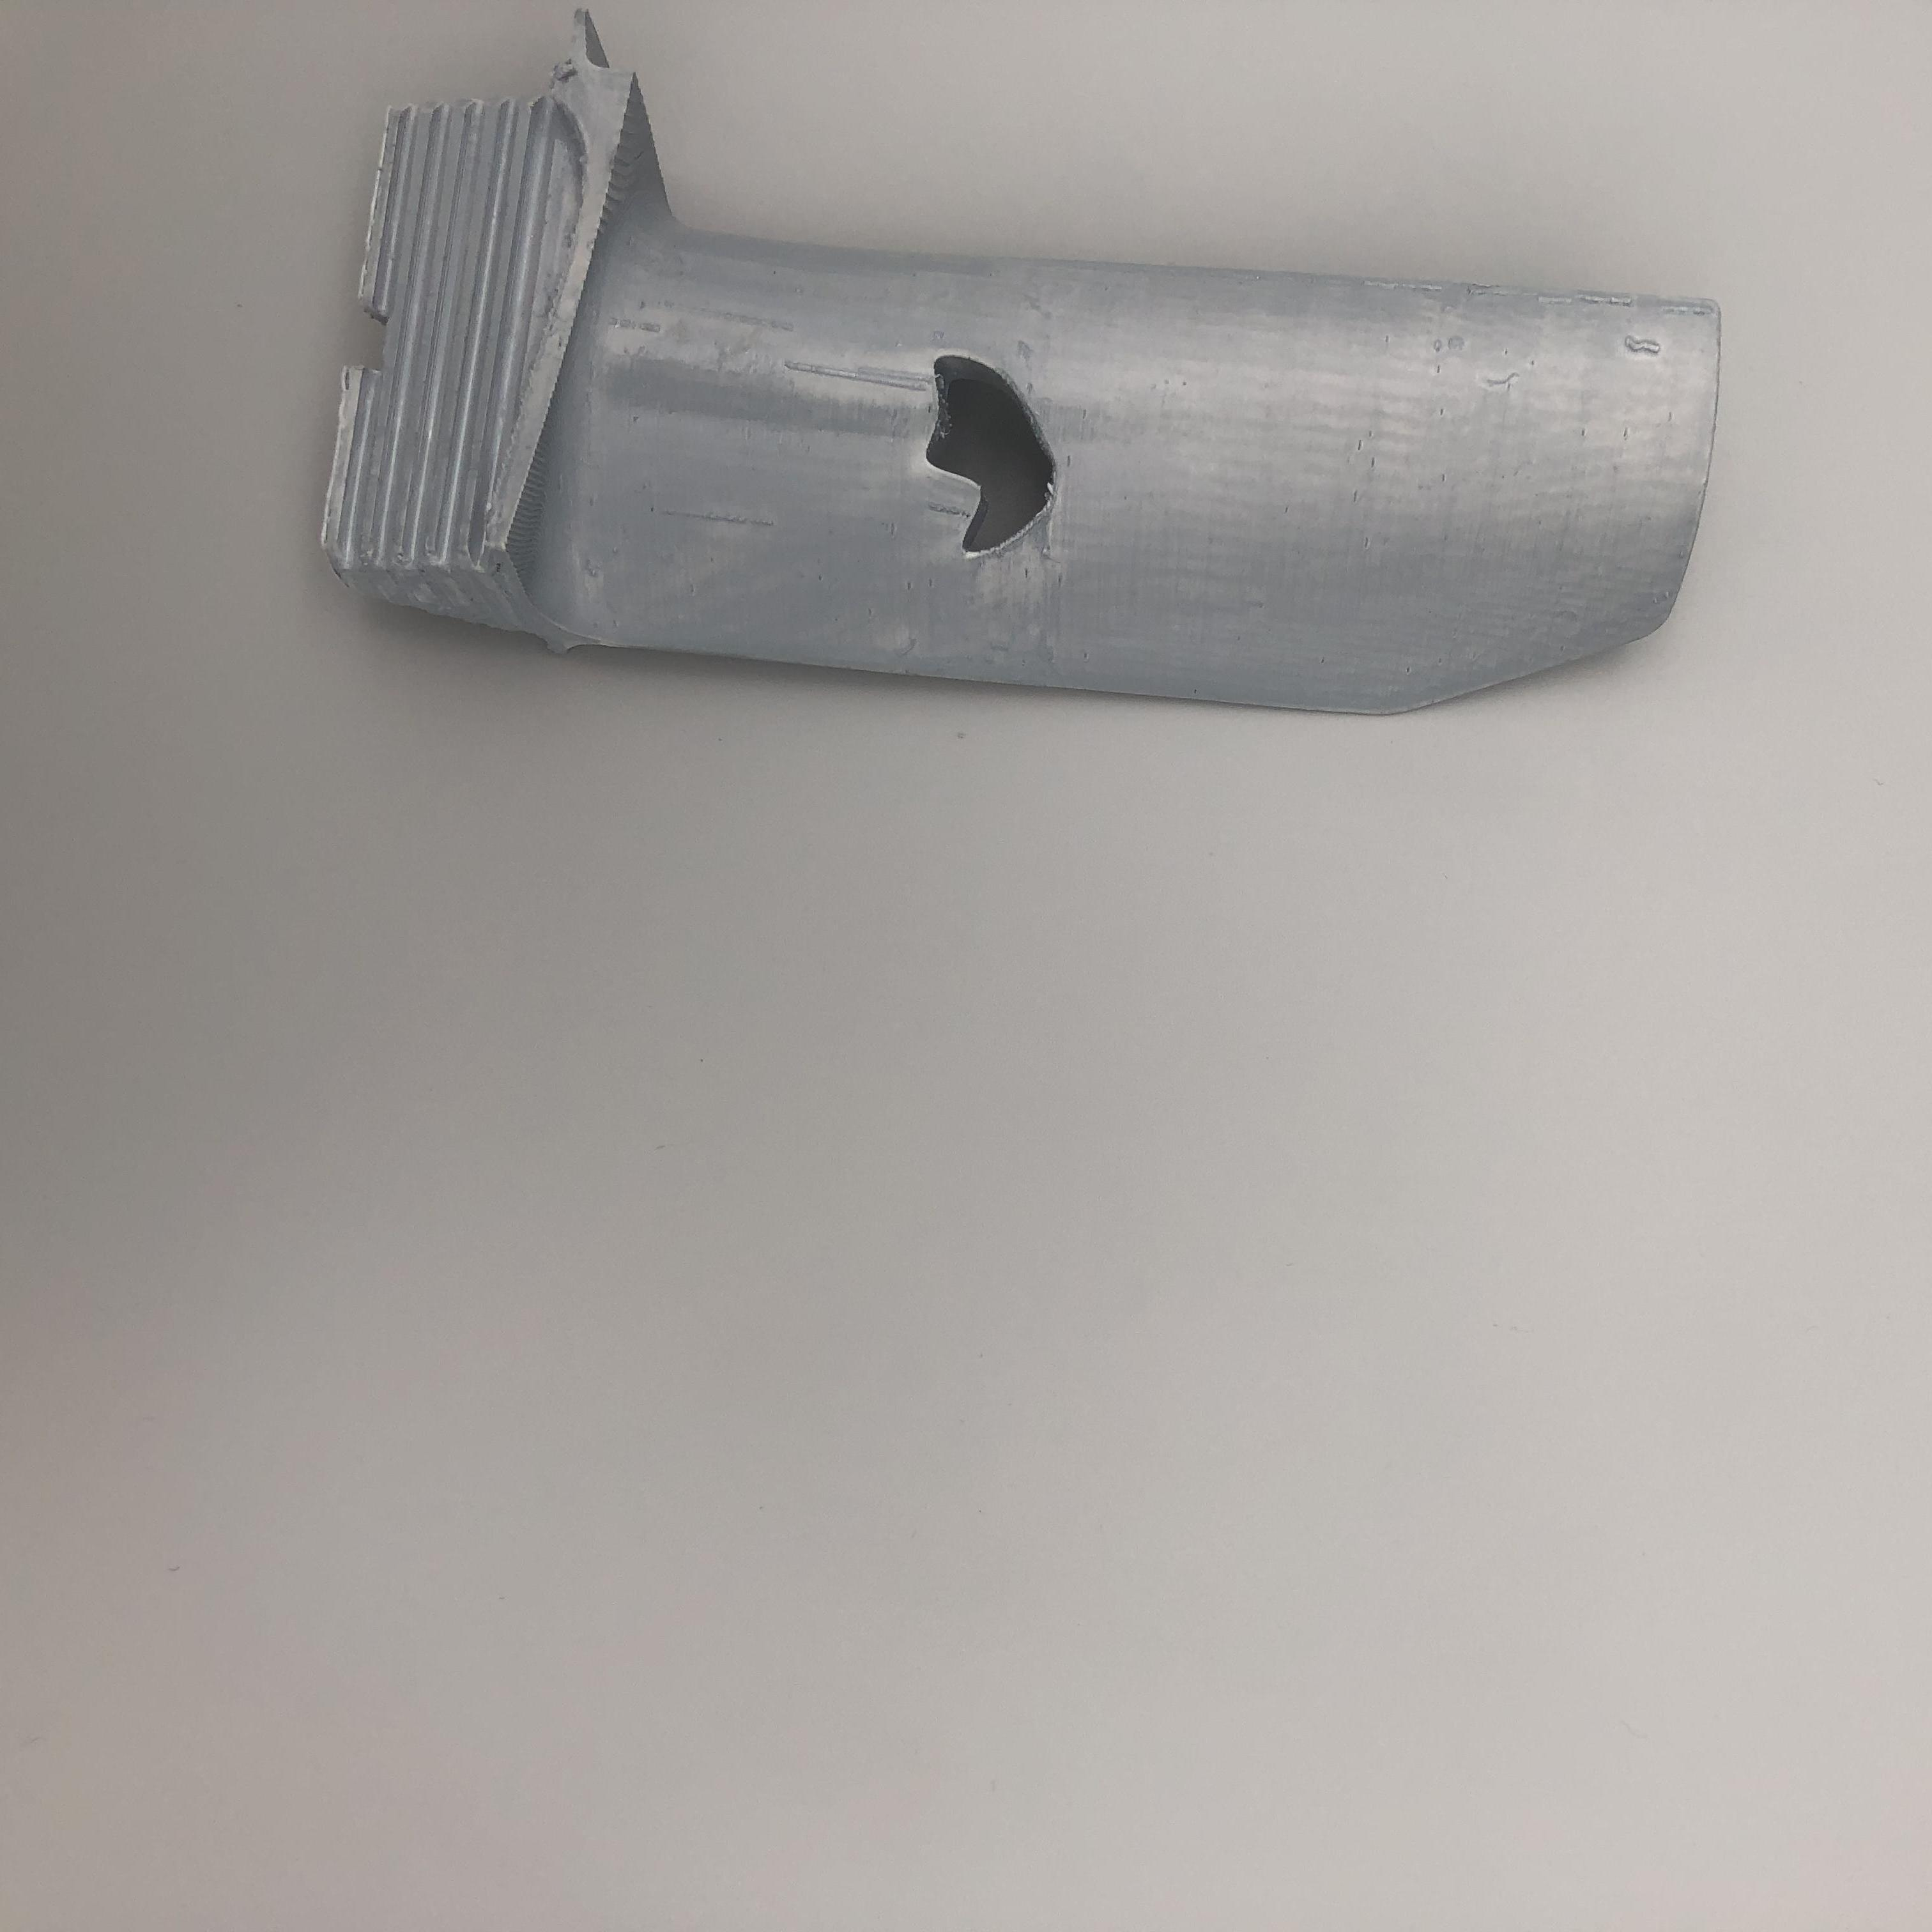breakdown: (890, 350, 1085, 566)
